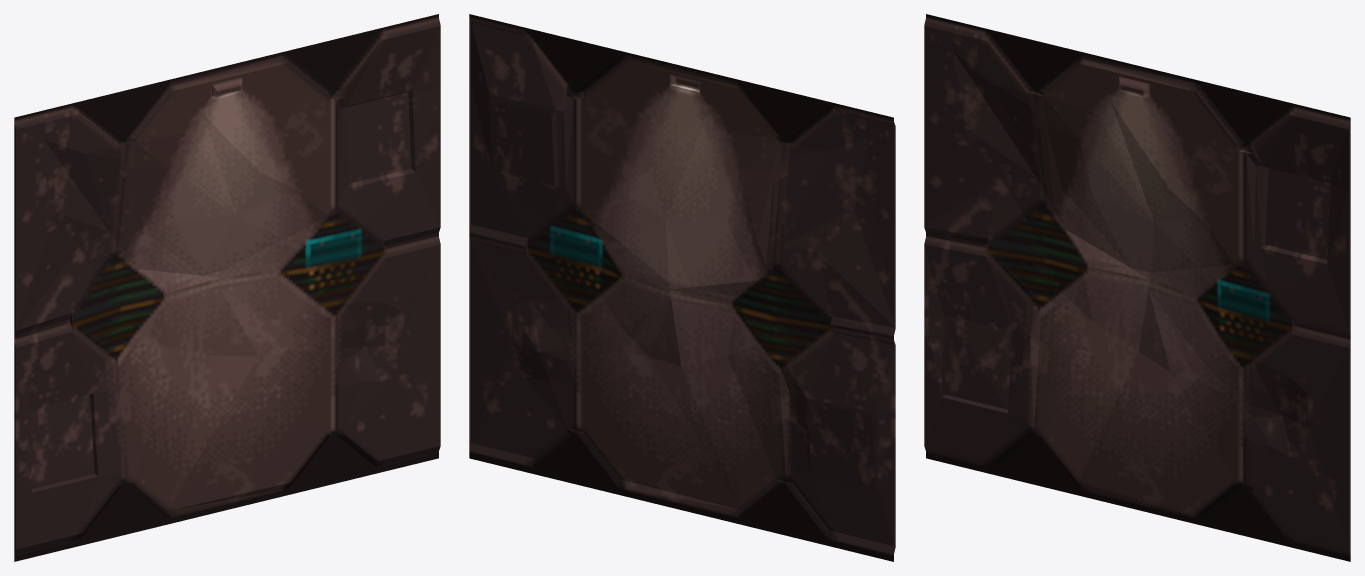
File: eng1_9d.fbx
The picture shows the model from 3 angles, left to right: view 1: azimuth 30°, elevation 25°; view 2: azimuth 150°, elevation 25°; view 3: azimuth 330°, elevation 25°; orthographic projection.
Parts seen in each view (by area): view 1: eng1_9d_mesh; view 2: eng1_9d_mesh; view 3: eng1_9d_mesh.
Boxes of the visible parts, x1,y1,x2,y2 form: eng1_9d_mesh: (14, 14, 440, 561); eng1_9d_mesh: (469, 14, 895, 561); eng1_9d_mesh: (924, 14, 1350, 561).
Size of the model in its own units: 256 by 256 by 13.48.
